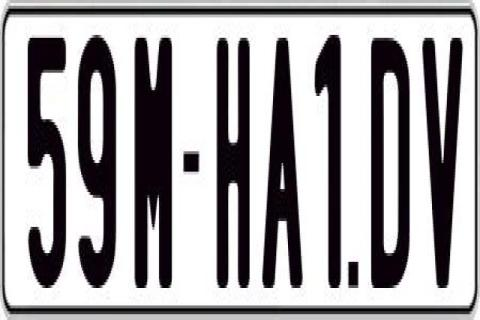0: (76, 32, 120, 291), (28, 32, 69, 296), (313, 35, 341, 299)
A: (259, 29, 306, 282)
D: (369, 29, 412, 285)
H: (215, 35, 250, 303)
M: (134, 35, 174, 299)
V: (421, 35, 462, 285)
